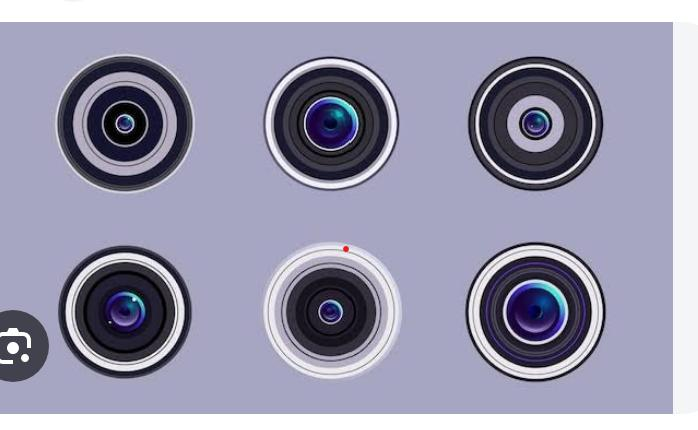hidden camera: (0, 24, 672, 412)
